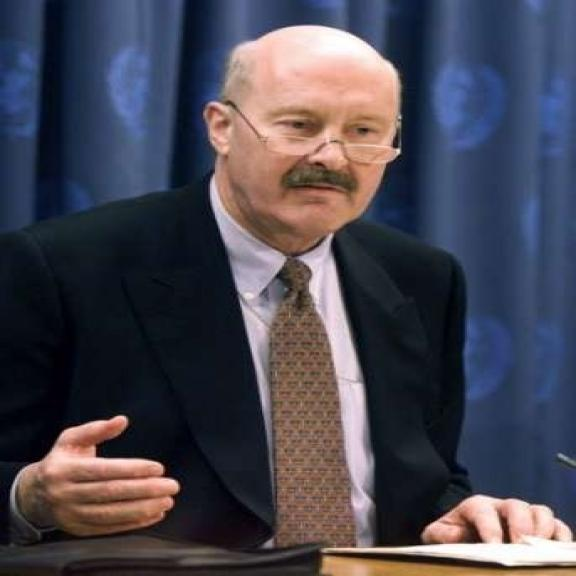face: (205, 30, 403, 244)
